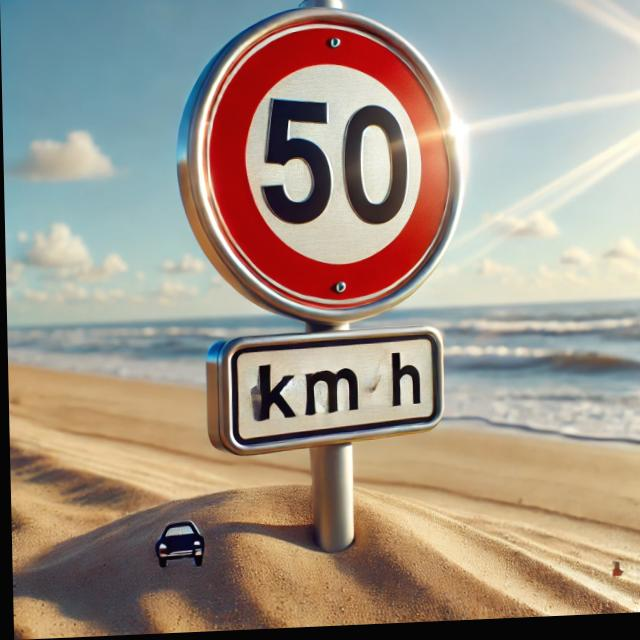Speed limit 50: (173, 1, 468, 334)
